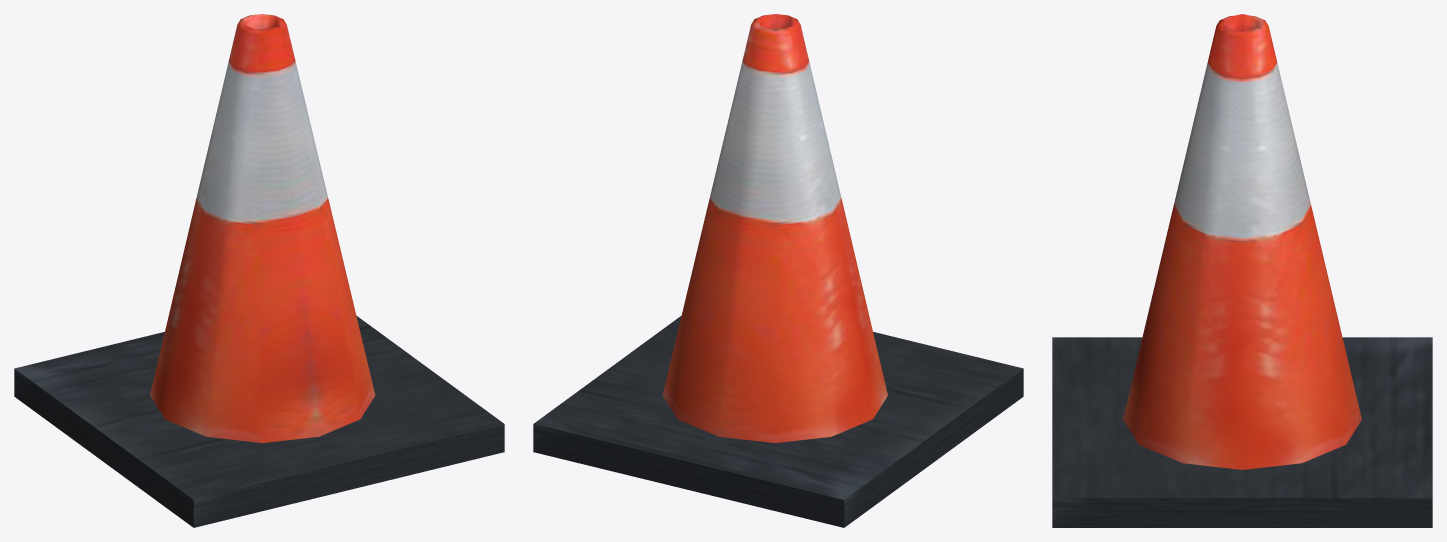
File: orangepylon_1.fbx
The picture shows the model from 3 angles, left to right: view 1: azimuth 30°, elevation 25°; view 2: azimuth 150°, elevation 25°; view 3: azimuth 270°, elevation 25°; orthographic projection. The views are drawn at different scales.
Parts seen in each view (by area): view 1: ChamferTube01, Box01; view 2: ChamferTube01, Box01; view 3: ChamferTube01, Box01.
Boxes of the visible parts, left/top/right/bottom form: ChamferTube01: left=150, top=14, right=375, bottom=442; Box01: left=14, top=315, right=504, bottom=527; ChamferTube01: left=662, top=14, right=887, bottom=442; Box01: left=533, top=315, right=1023, bottom=527; ChamferTube01: left=1123, top=14, right=1361, bottom=469; Box01: left=1052, top=337, right=1432, bottom=527.
Size of the model in its own units: 35.43 by 43.76 by 35.43.
